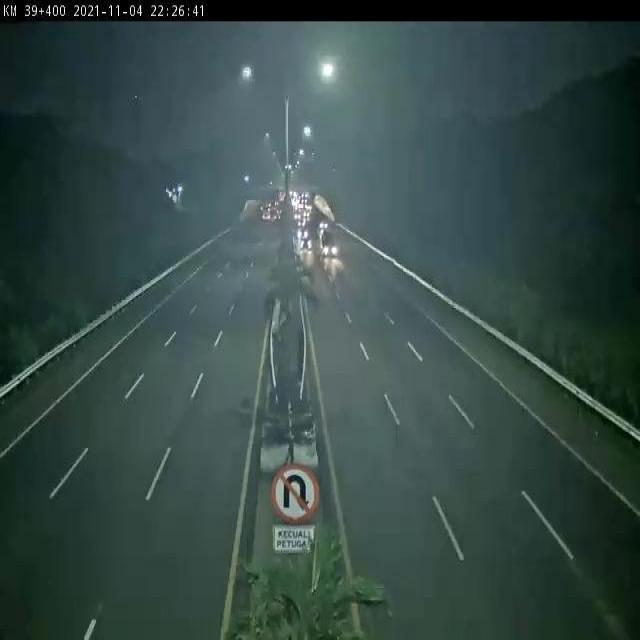car: (319, 228, 339, 263), (314, 212, 335, 236), (296, 236, 316, 256), (293, 224, 311, 244)
